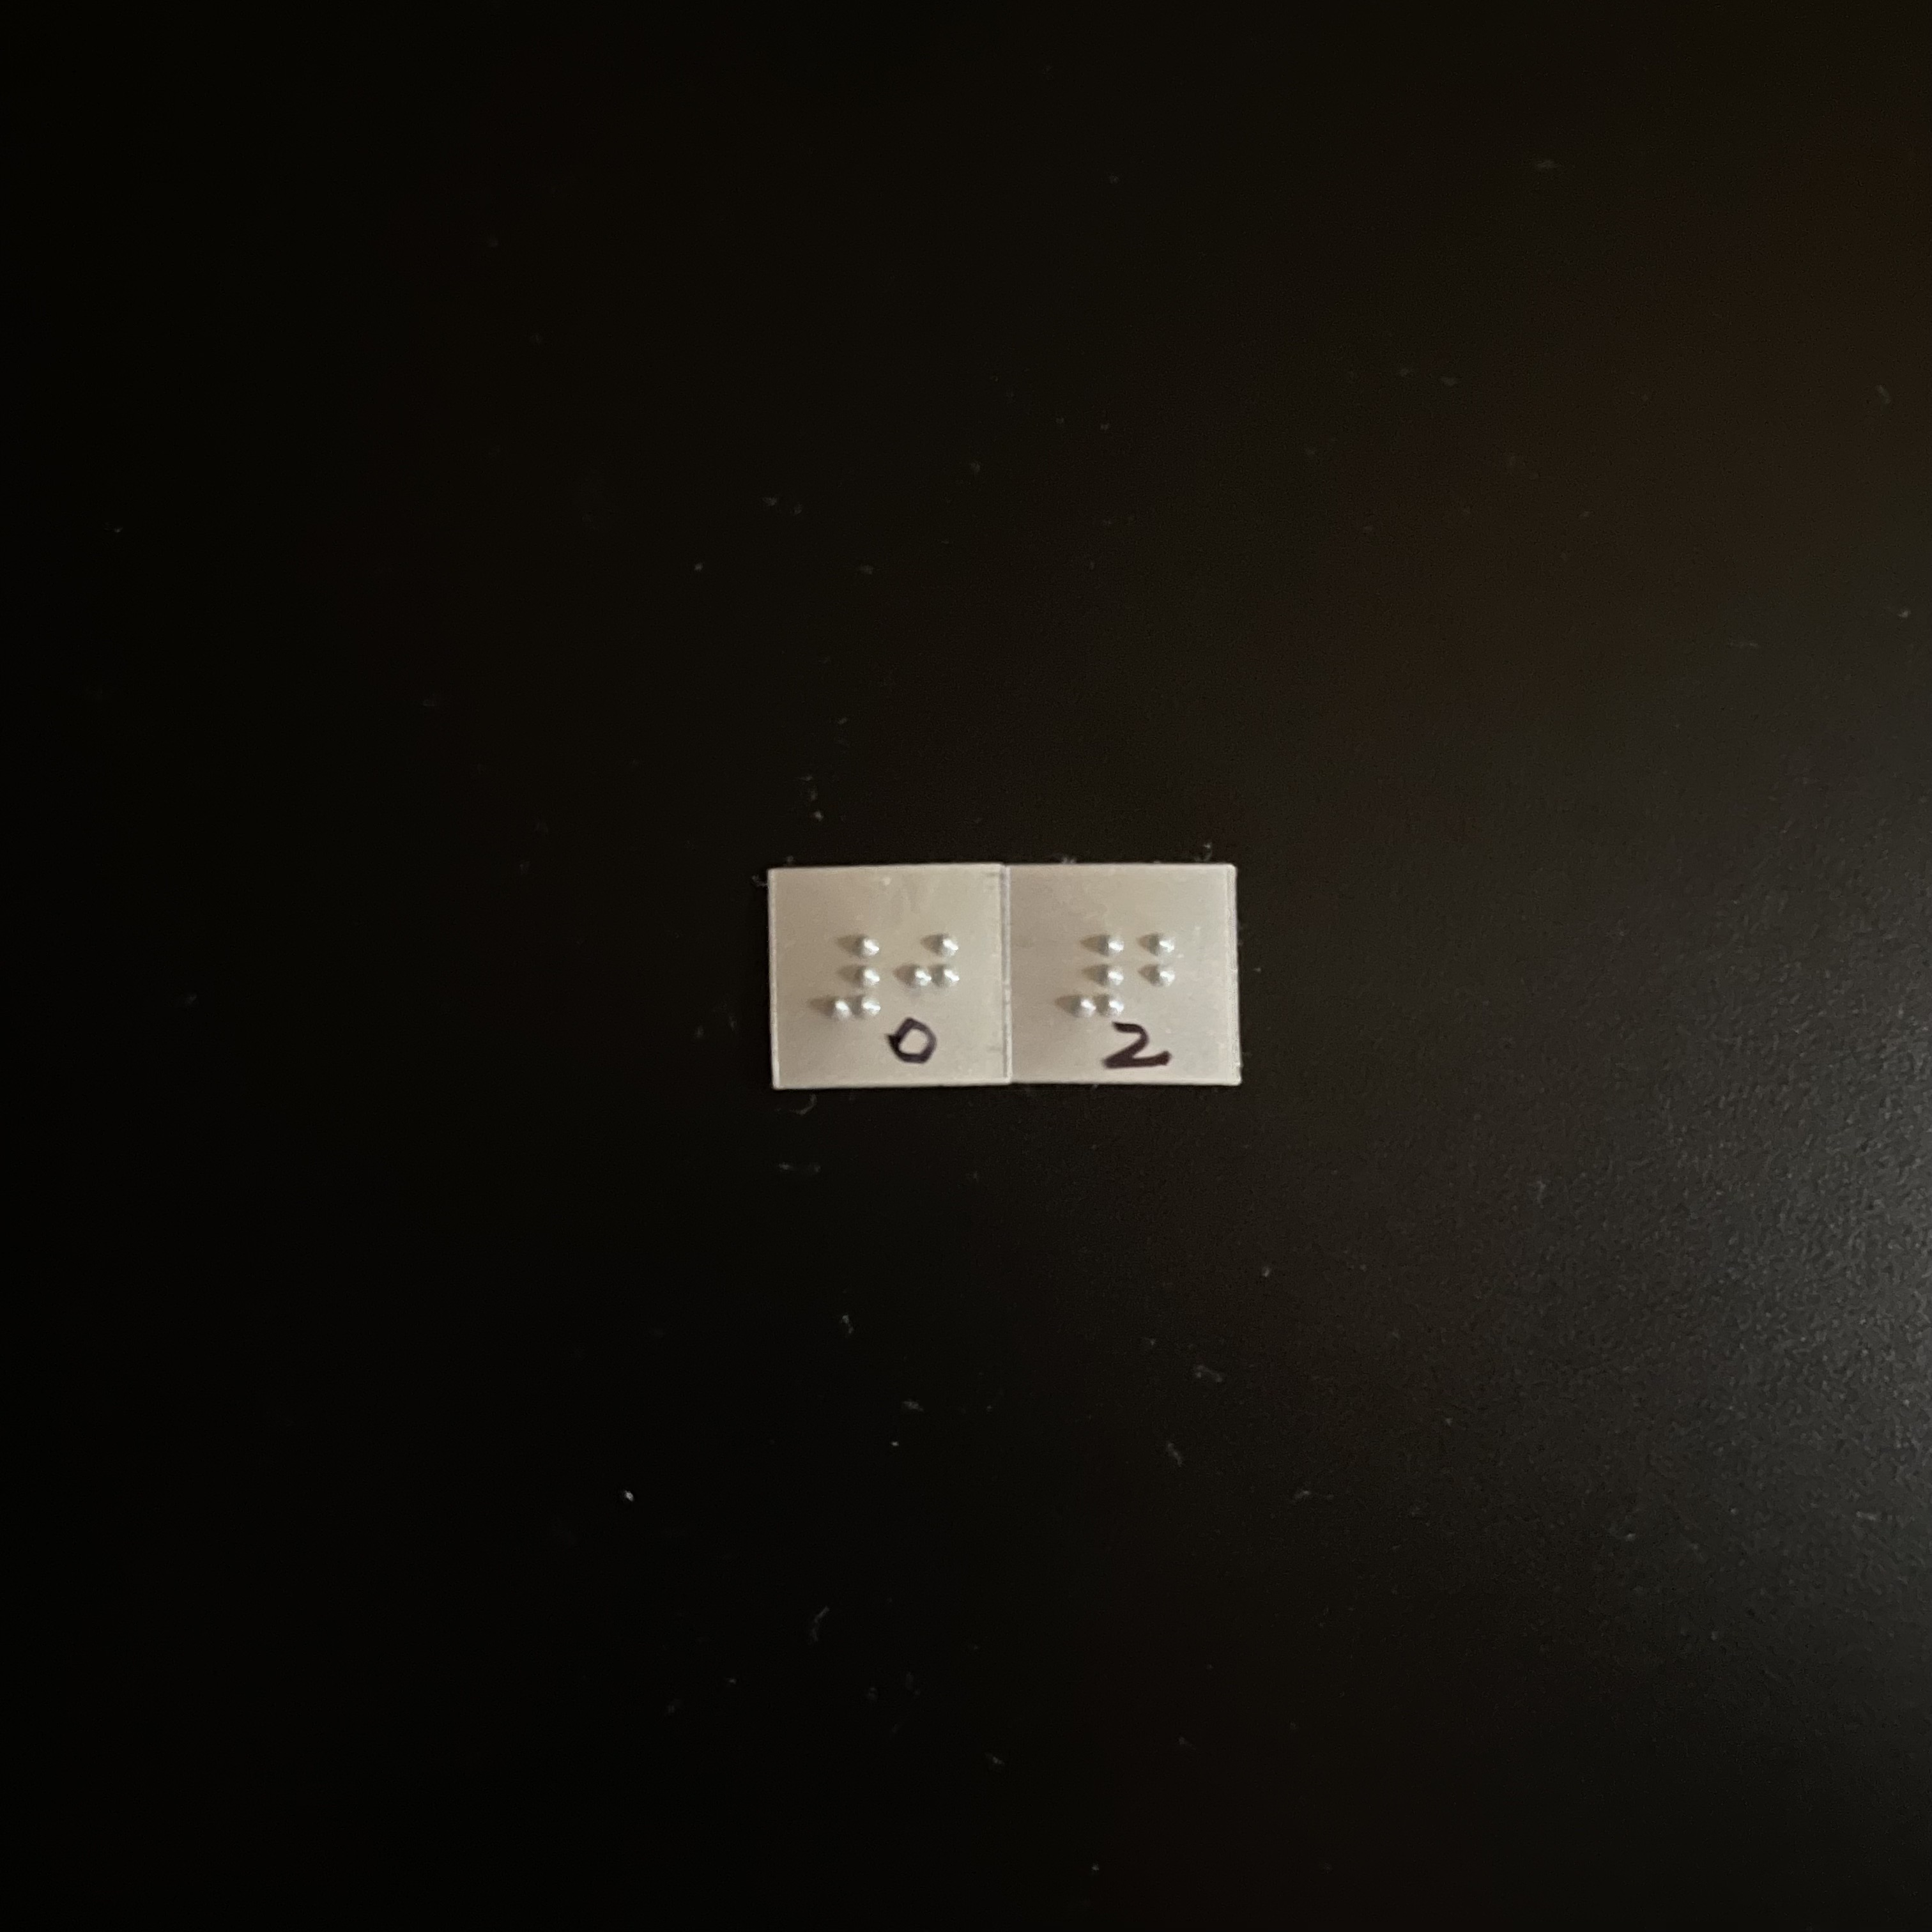#: (1052, 931, 1131, 1033), (813, 931, 888, 1027)
b: (1135, 934, 1207, 1039)
j: (893, 930, 963, 1031)
